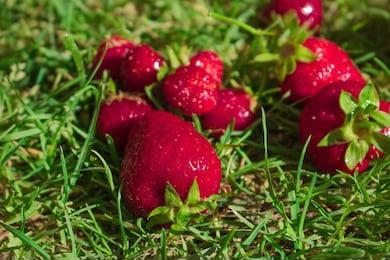Fresa: (114, 107, 231, 234), (269, 28, 390, 123), (296, 76, 390, 179)
